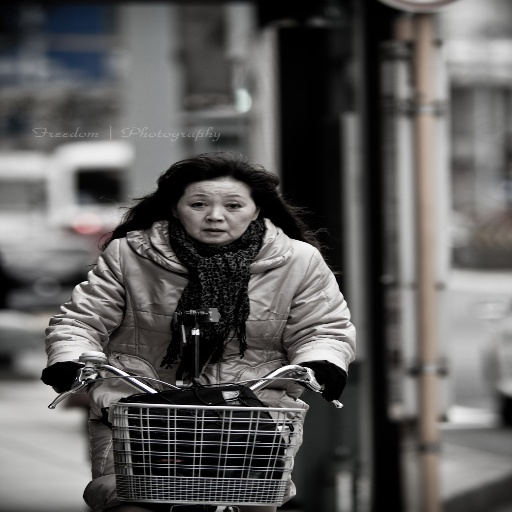hand: (294, 360, 350, 405), (36, 359, 100, 392)
